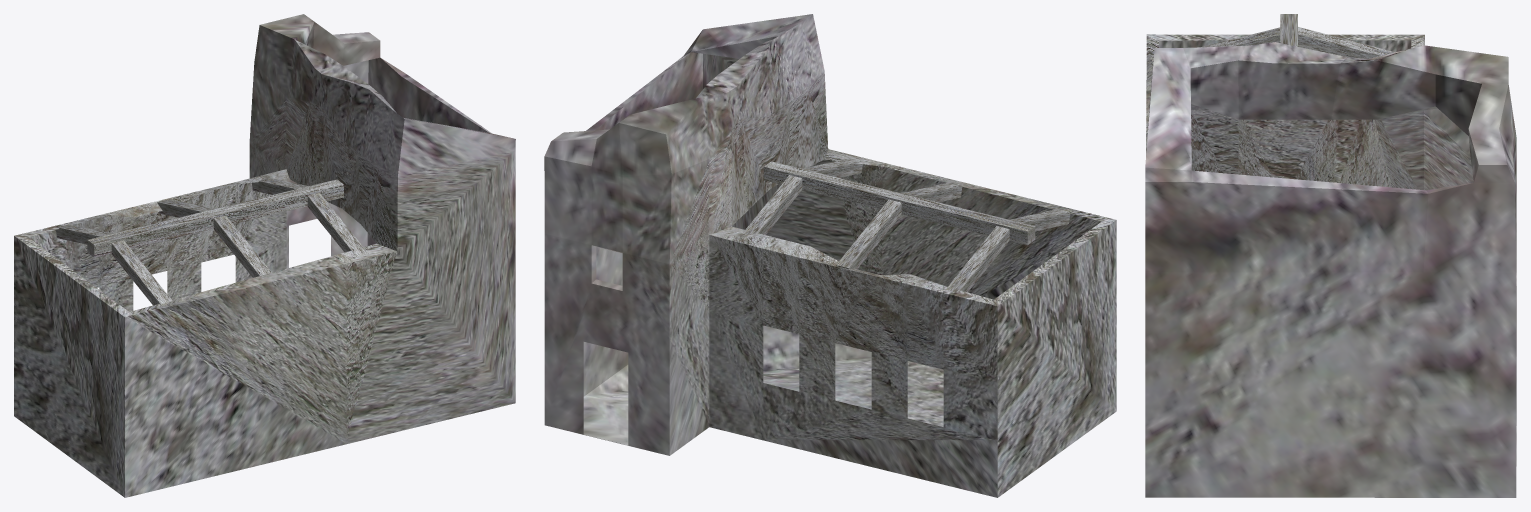
The model's file is minehouse.fbx.
The picture shows the model from 3 angles, left to right: view 1: azimuth 30°, elevation 25°; view 2: azimuth 150°, elevation 25°; view 3: azimuth 270°, elevation 25°; orthographic projection. The views are drawn at different scales.
Visible parts, largest first — view 1: mine house; view 2: mine house; view 3: mine house.
Part boxes in pixels (left/top/right/bottom): mine house: left=14, top=14, right=515, bottom=497; mine house: left=544, top=14, right=1116, bottom=497; mine house: left=1145, top=14, right=1516, bottom=497.
Bounding box in the file's own units: 2678 × 2013 × 1751.
